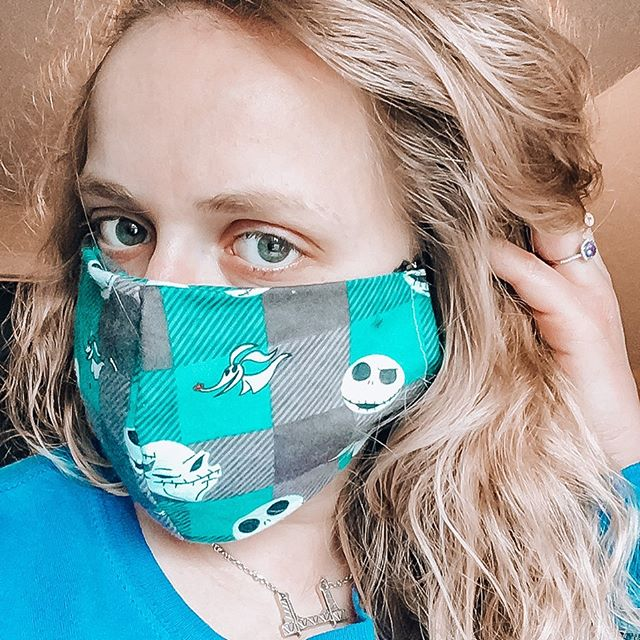homemade: (59, 252, 439, 550)
